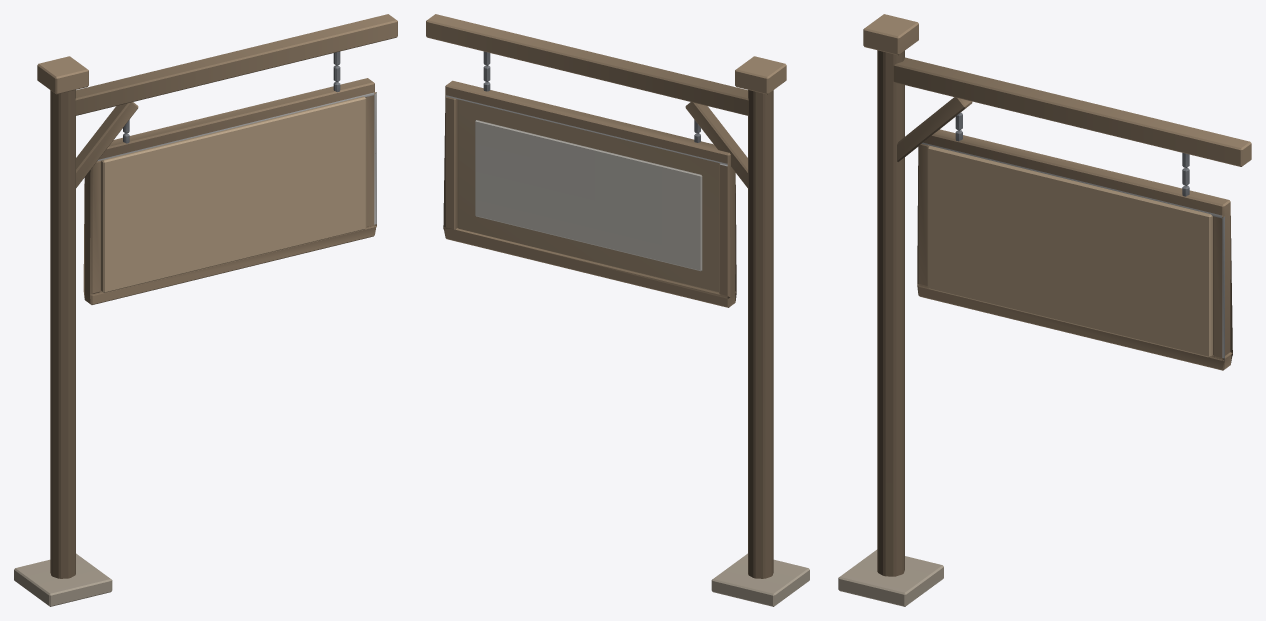
Rendered from sign_post.glb.
The picture shows the model from 3 angles, left to right: view 1: azimuth 30°, elevation 25°; view 2: azimuth 150°, elevation 25°; view 3: azimuth 330°, elevation 25°; orthographic projection. The views are drawn at different scales.
Bounding box in the file's own units: 1.72 × 2.36 × 0.3.
